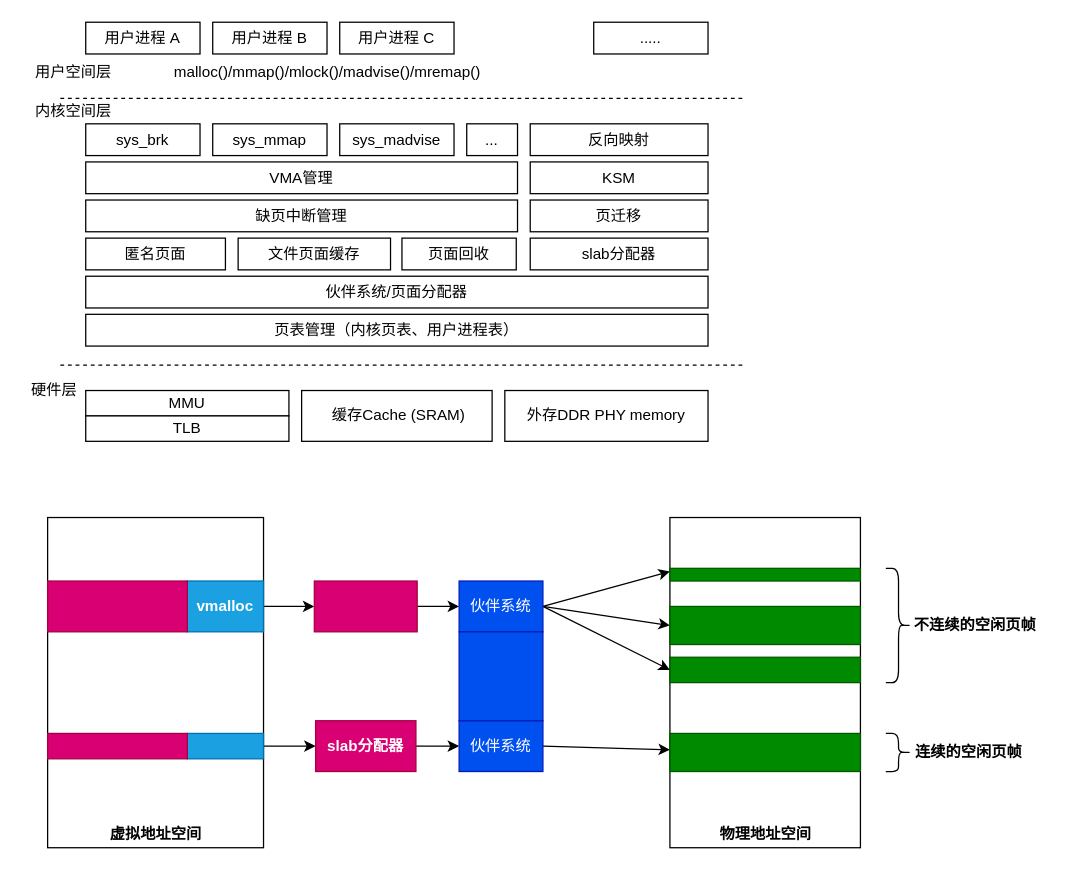
Image size: 1066x870. Some labels were removed from this diagram. The shapes that lost their labels are listed below. From the top down, each one's centre as x and y in pixels, then its label:
(116,606): 动态内存映射区
(365,606): 内核页表
(116,745): 直接映射区
(225,745): kmalloc
